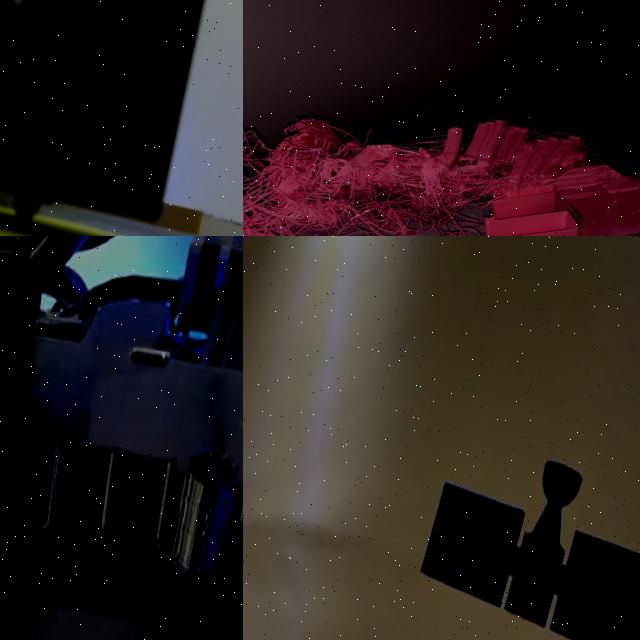spaghetti: (243, 74, 582, 236)
